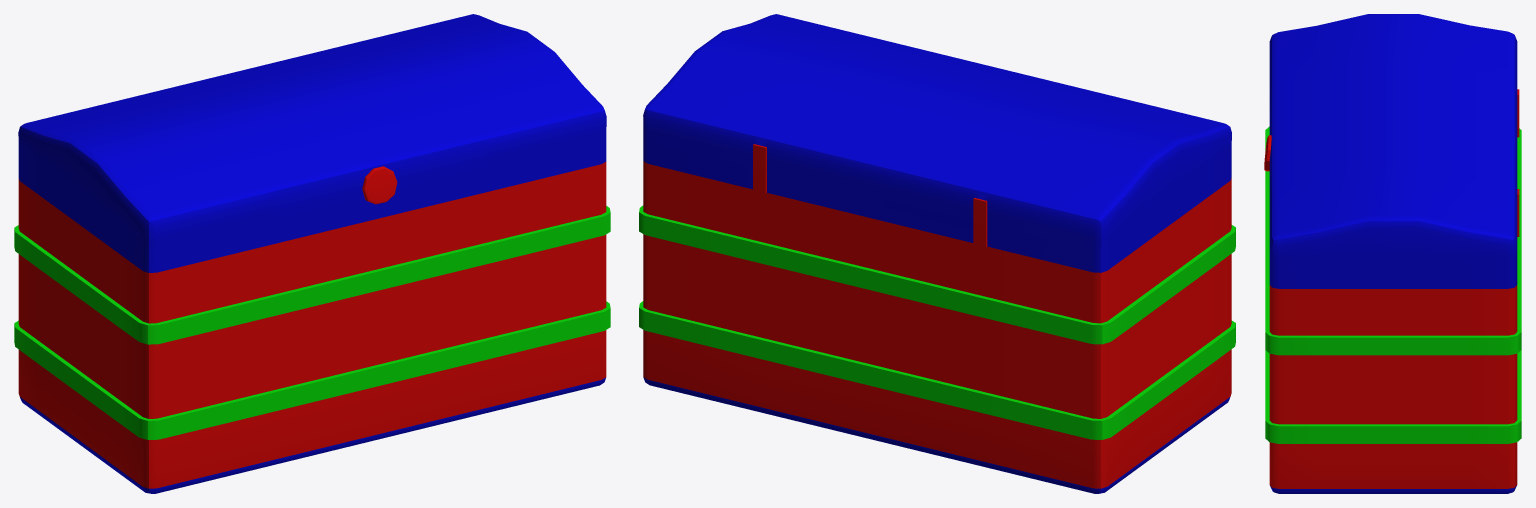
File: Chest_Closed.fbx
The picture shows the model from 3 angles, left to right: view 1: azimuth 30°, elevation 25°; view 2: azimuth 150°, elevation 25°; view 3: azimuth 270°, elevation 25°; orthographic projection. The views are drawn at different scales.
Parts seen in each view (by area): view 1: Chest_Closed; view 2: Chest_Closed; view 3: Chest_Closed.
Boxes of the visible parts, <box> form: Chest_Closed: <box>14,14,610,493</box>; Chest_Closed: <box>639,14,1235,493</box>; Chest_Closed: <box>1264,14,1521,493</box>.
Size of the model in its own units: 2.04 by 1.24 by 1.04.
